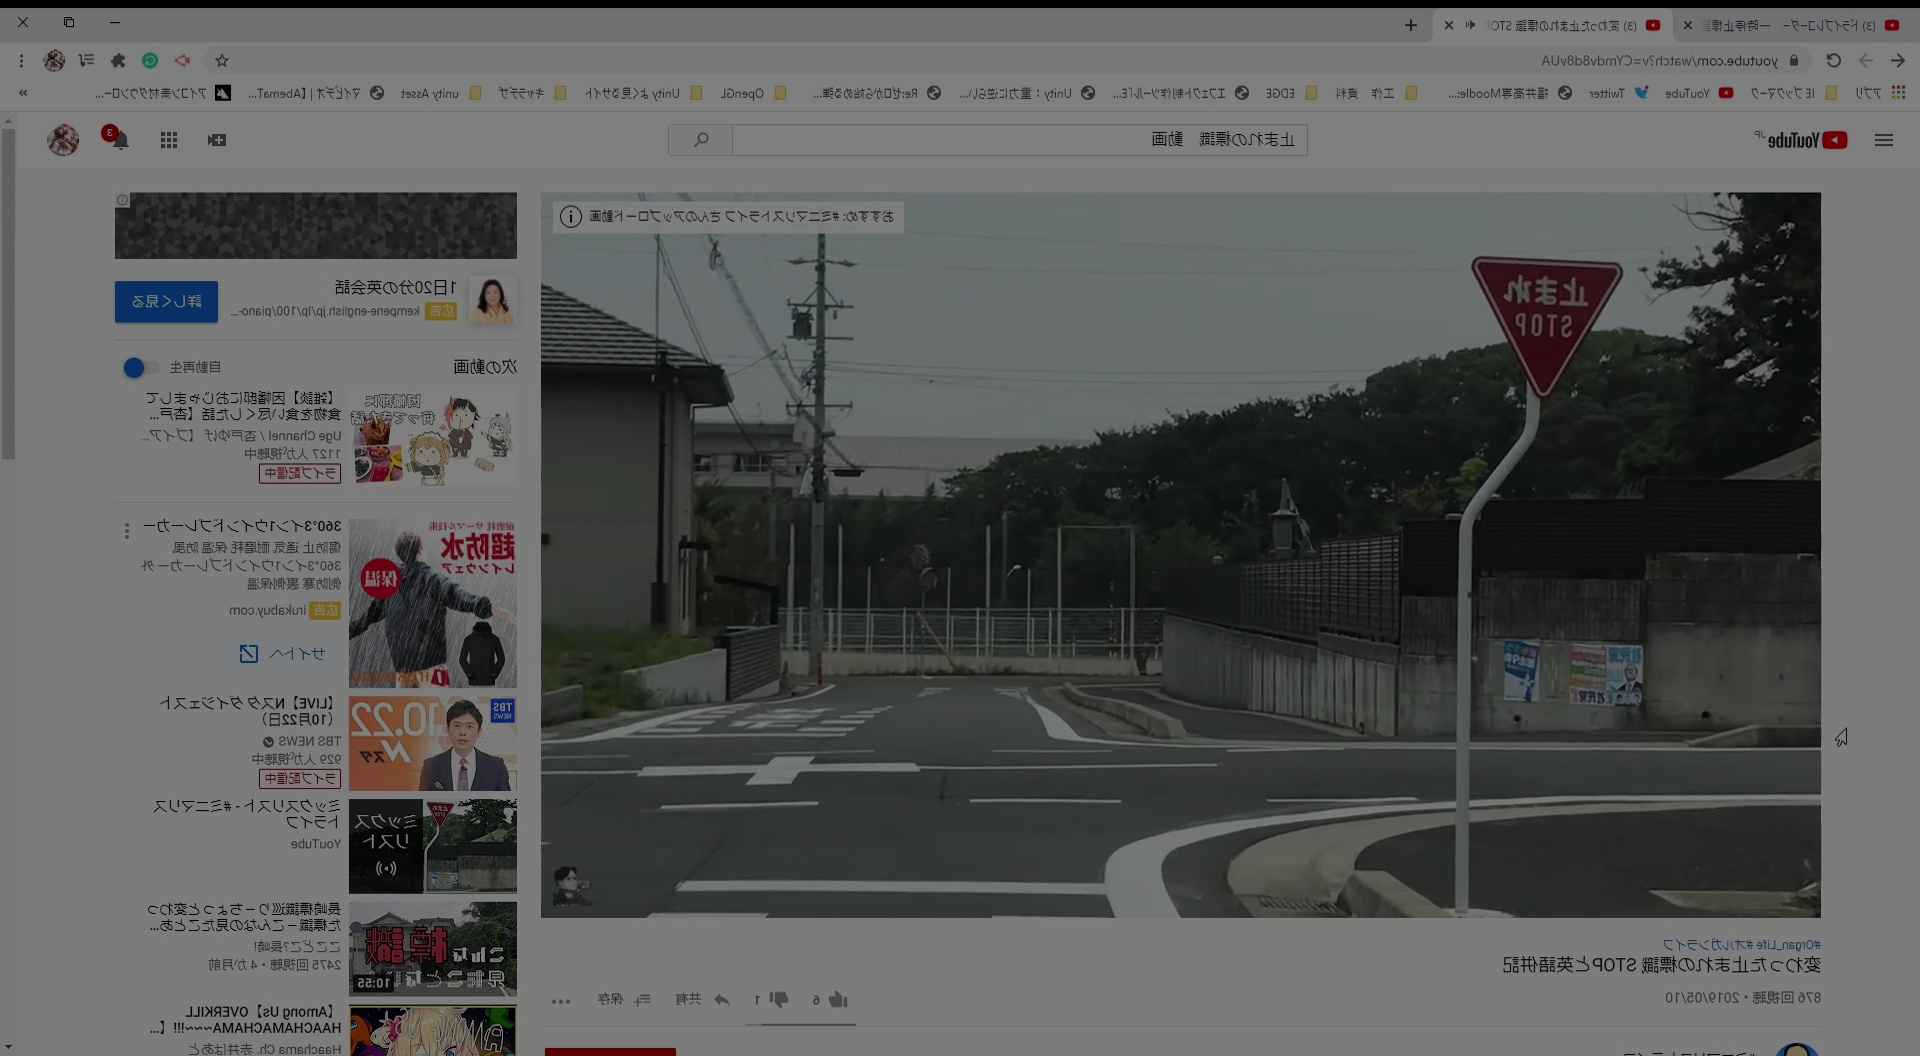Regulatory_sign_triangle: (1459, 242, 1628, 403)
